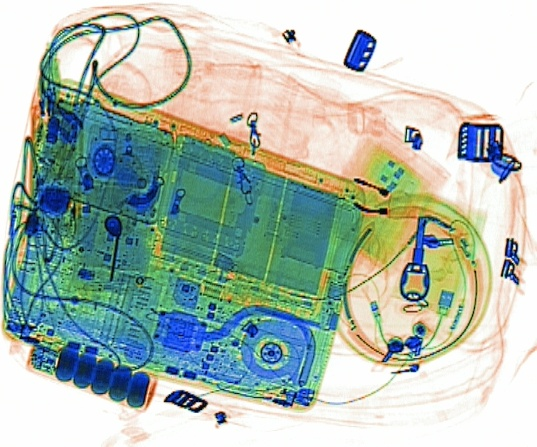powerbank: (19, 333, 158, 415)
